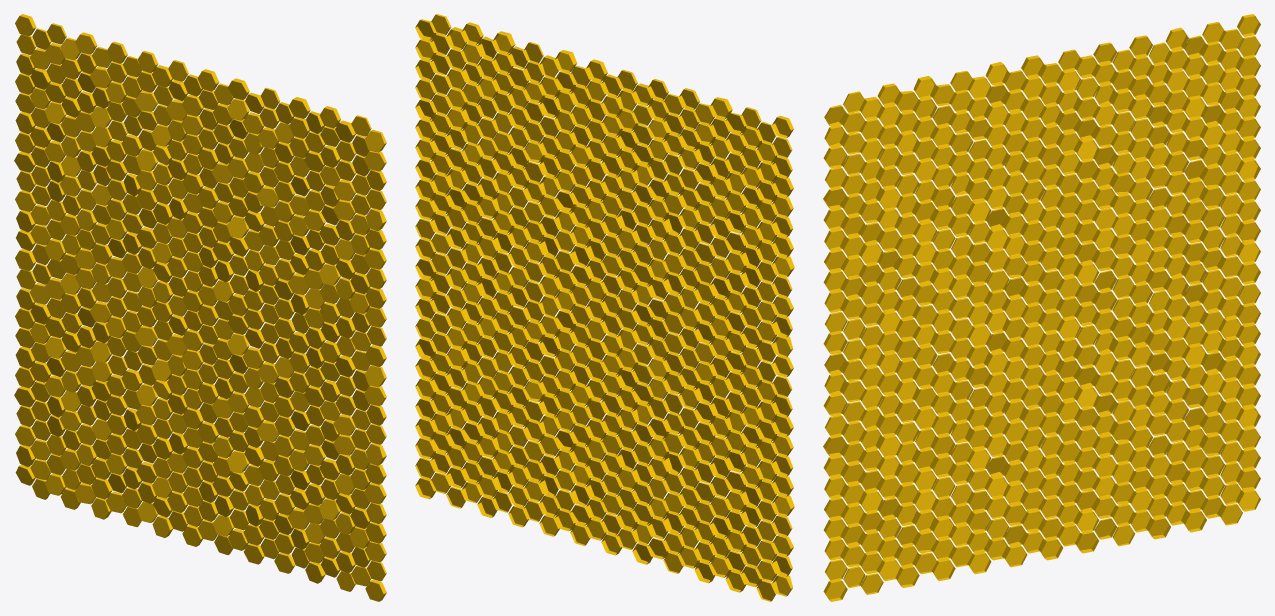
Rendered from LastraPanelHexaGon.fbx.
The picture shows the model from 3 angles, left to right: view 1: azimuth 30°, elevation 25°; view 2: azimuth 210°, elevation 25°; view 3: azimuth 270°, elevation 25°; orthographic projection. The views are drawn at different scales.
Parts seen in each view (by area): view 1: Object015; view 2: Object015; view 3: Object015.
Boxes of the visible parts, bbox=[...] form: Object015: bbox=[14, 14, 386, 601]; Object015: bbox=[415, 14, 794, 601]; Object015: bbox=[823, 14, 1260, 601].
Size of the model in its own units: 18.65 by 50.7 by 39.9.
